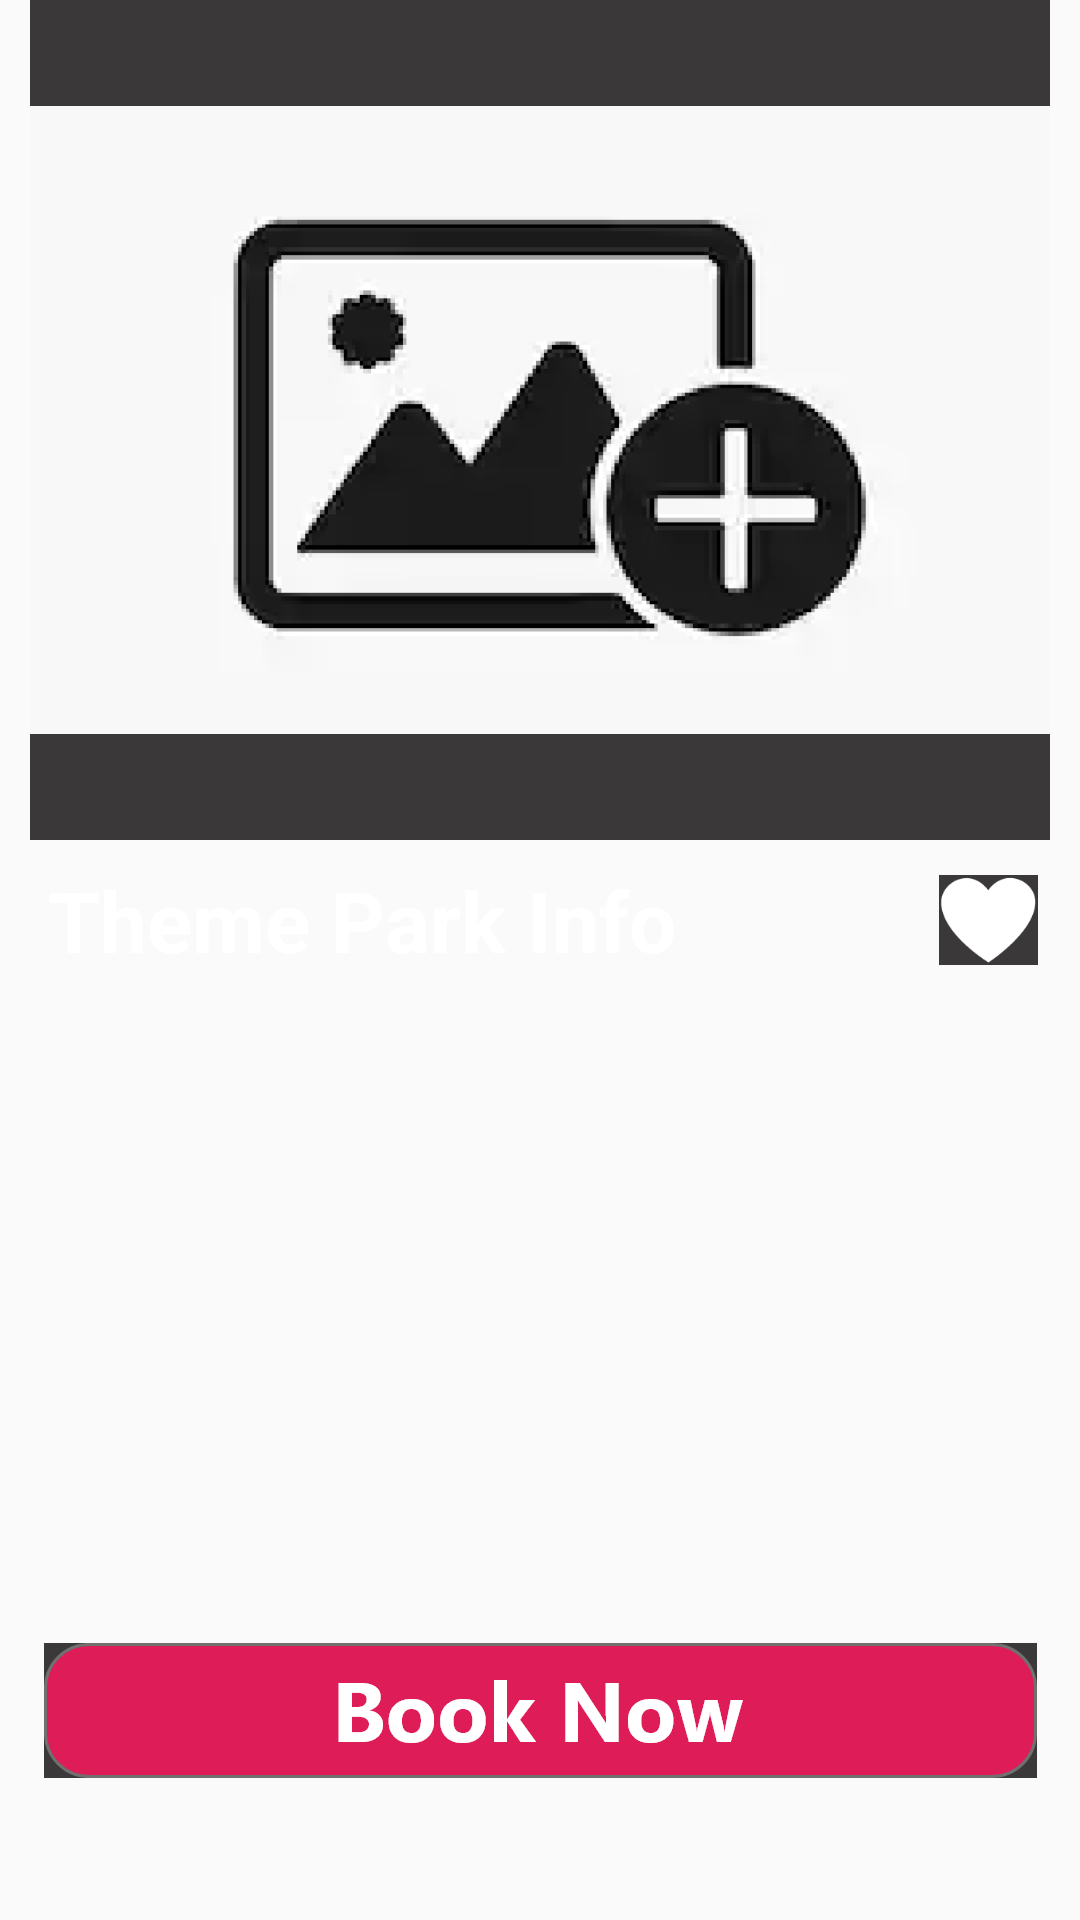

Icon bounding boxes for this 1080 x 1920 phone screenshot, format (x1, y1, x2, y2):
add to favourite: (939, 875, 1038, 965)
